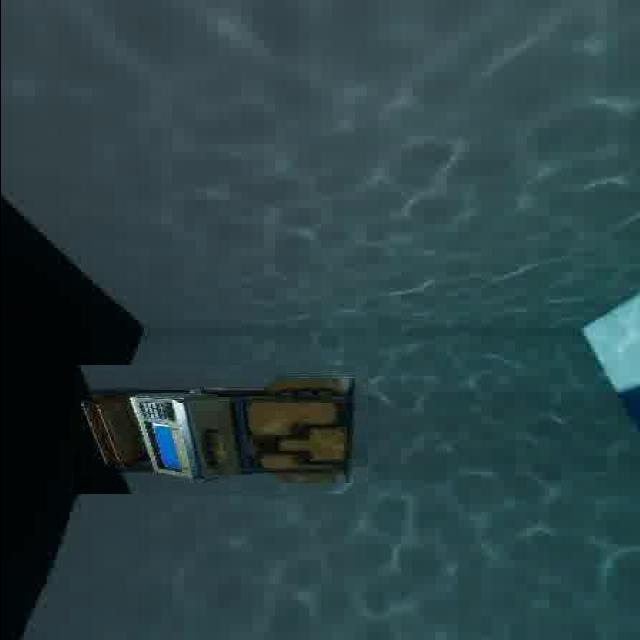Control Panel: (73, 365, 367, 494)
